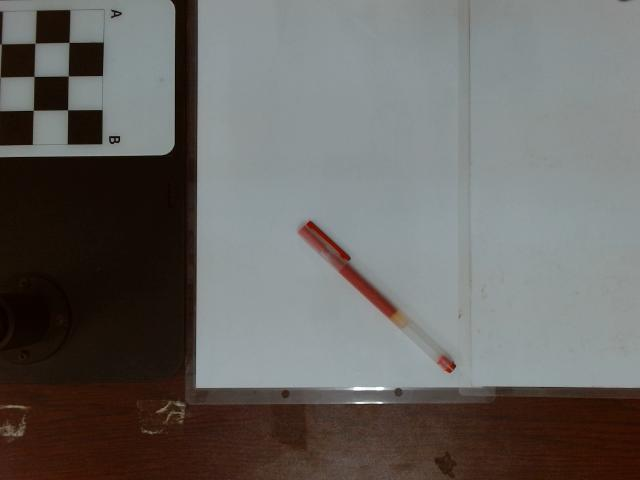PEN: (295, 219, 462, 375)
